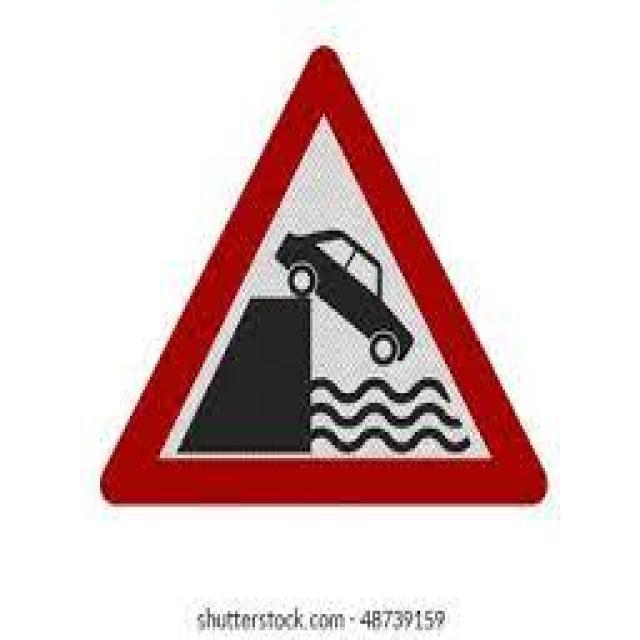quay side or river bank: (96, 47, 547, 512)
